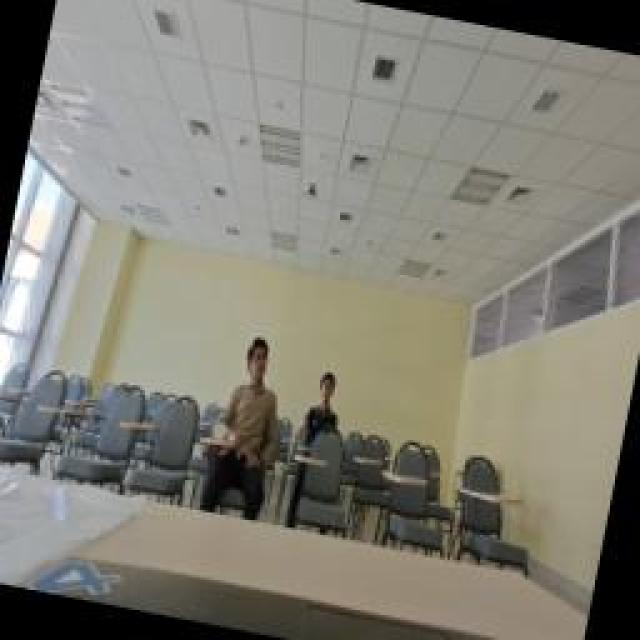study: (198, 330, 292, 522), (280, 368, 348, 530)
